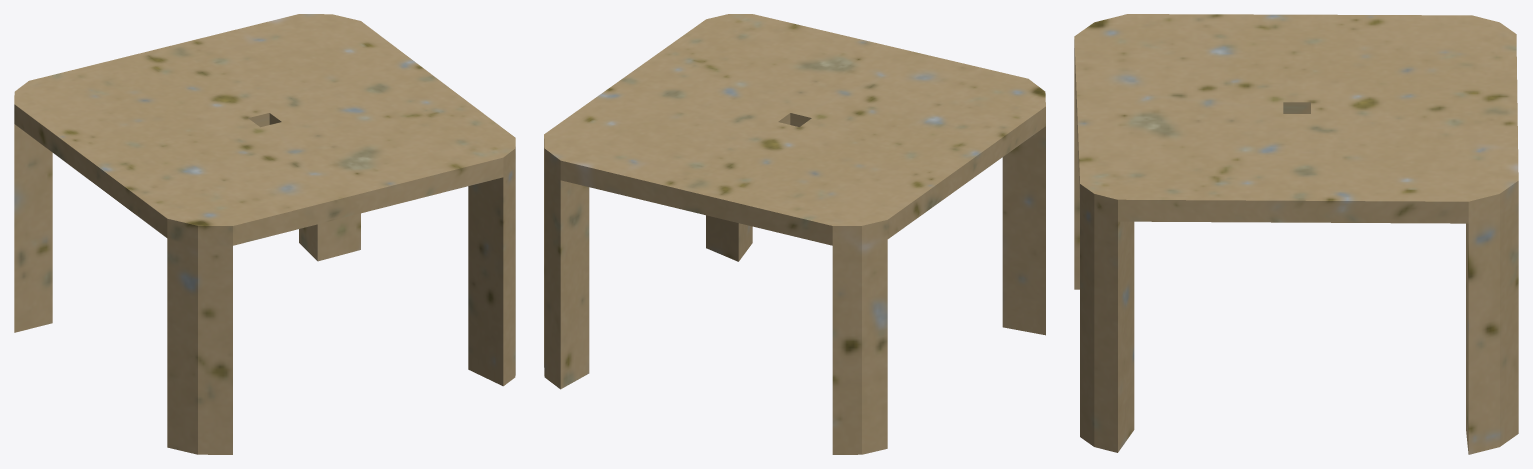
File: Table_2.fbx
3 renders of one model, left to right at view 1: azimuth 30°, elevation 25°; view 2: azimuth 150°, elevation 25°; view 3: azimuth 270°, elevation 25°, orthographic. The views are drawn at different scales.
Visible parts, largest first — view 1: GambleTable_2; view 2: GambleTable_2; view 3: GambleTable_2.
Part boxes in pixels (x1,y1,x2,y2): GambleTable_2: (14,14,515,454); GambleTable_2: (544,14,1045,454); GambleTable_2: (1074,14,1518,454).
Bounding box in the file's own units: 160 × 101 × 160.
